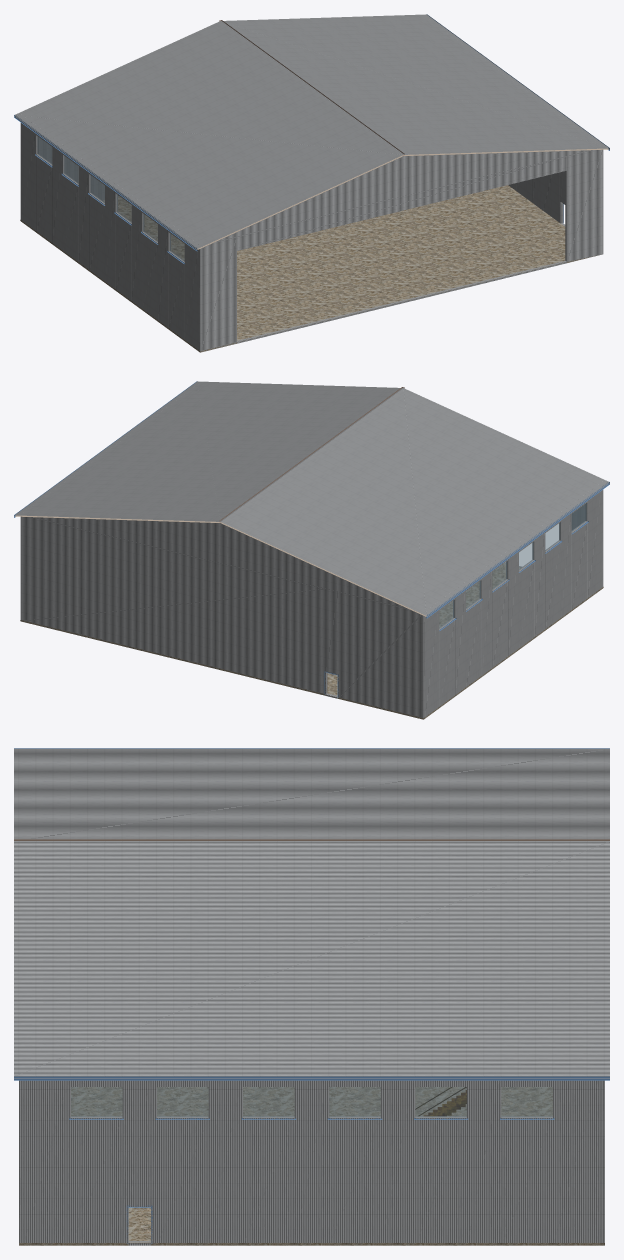
The model's file is air-hangar.glass-v1.lod0.glb.
The picture shows the model from 3 angles, top to bottom: view 1: azimuth 30°, elevation 25°; view 2: azimuth 150°, elevation 25°; view 3: azimuth 270°, elevation 25°; orthographic projection. The views are drawn at different scales.
Parts seen in each view (by area): view 1: air-hangar; view 2: air-hangar; view 3: air-hangar.
Part boxes in pixels (x1,y1,x2,y2): air-hangar: (14,14,609,352); air-hangar: (14,381,609,719); air-hangar: (14,748,609,1245).
Size of the model in its own units: 45.08 by 15.71 by 34.6.
5 materials, 3 textured.
